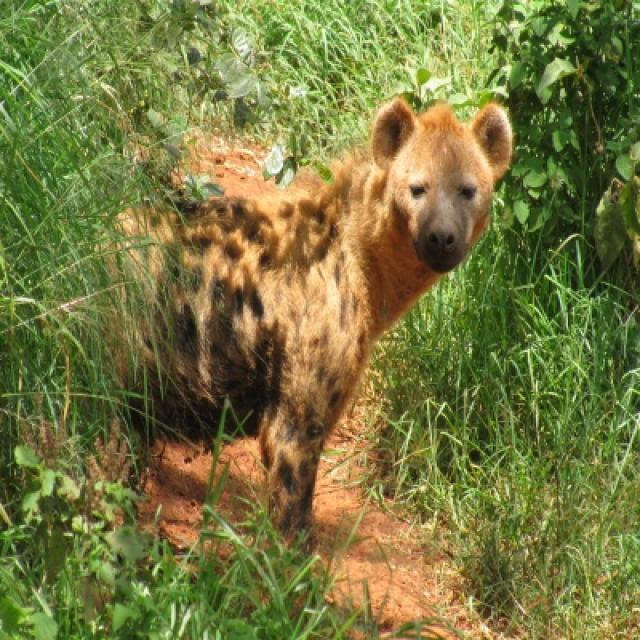hyena: (134, 98, 510, 530)
